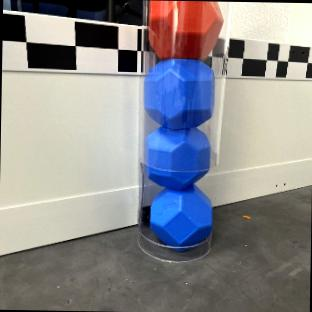V5_BLUE: (143, 58, 214, 128), (148, 184, 212, 250), (145, 127, 210, 187)
V5_RED: (147, 0, 222, 59)
